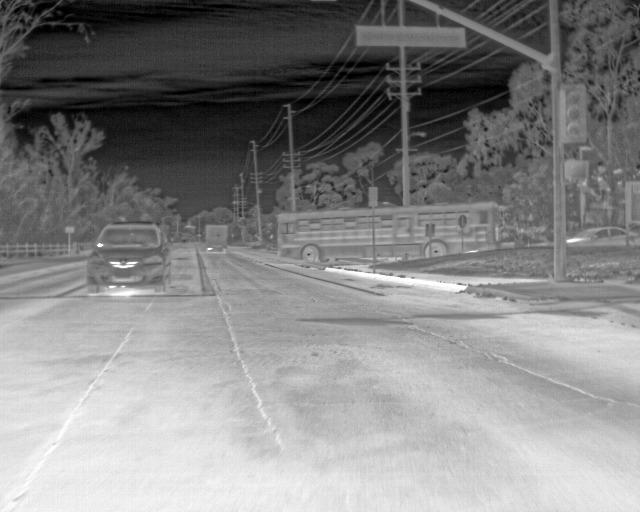car: (276, 202, 501, 268), (87, 221, 172, 293), (565, 227, 639, 249), (204, 225, 228, 252)
light: (565, 91, 582, 139), (571, 162, 588, 178)
sign: (357, 26, 465, 47), (425, 224, 435, 236), (458, 215, 467, 228), (369, 187, 377, 200), (65, 226, 75, 233), (369, 200, 377, 206)
